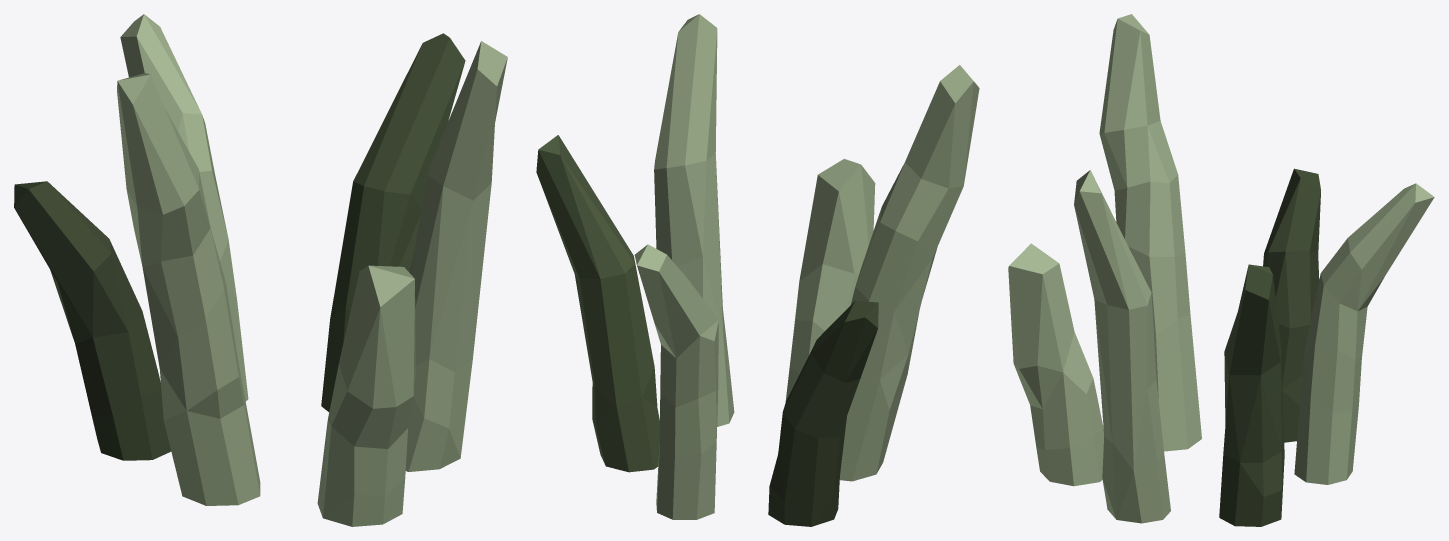
The model's file is EA_Swamp_Grass_03d.glb.
3 renders of one model, left to right at view 1: azimuth 30°, elevation 25°; view 2: azimuth 150°, elevation 25°; view 3: azimuth 270°, elevation 25°, orthographic. The views are drawn at different scales.
Visible parts, largest first — view 1: EA_Swamp_Grass_03d; view 2: EA_Swamp_Grass_03d; view 3: EA_Swamp_Grass_03d.
Part boxes in pixels (bbox=[...]): EA_Swamp_Grass_03d: bbox=[14, 14, 507, 526]; EA_Swamp_Grass_03d: bbox=[536, 14, 979, 526]; EA_Swamp_Grass_03d: bbox=[1008, 14, 1434, 526].
Bounding box in the file's own units: 0.7257 × 0.7664 × 0.7817.
Materials: 1 (1 with a texture image).
